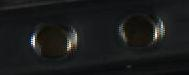joints: (113, 10, 164, 51), (28, 21, 78, 61)
